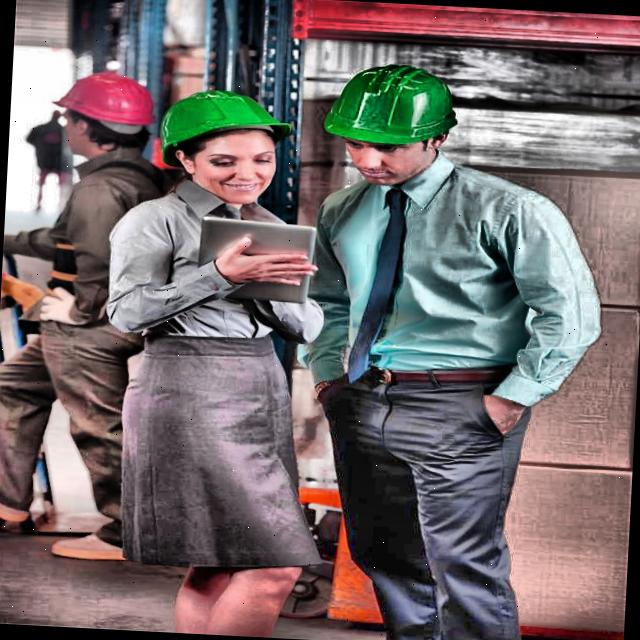helmet: (294, 56, 483, 204), (137, 75, 304, 209), (39, 60, 166, 172)
